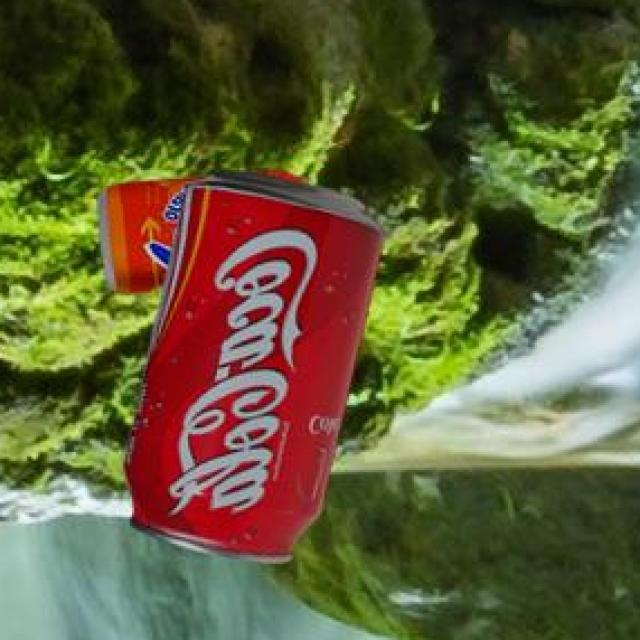logam: (122, 173, 379, 565), (95, 173, 305, 297)
